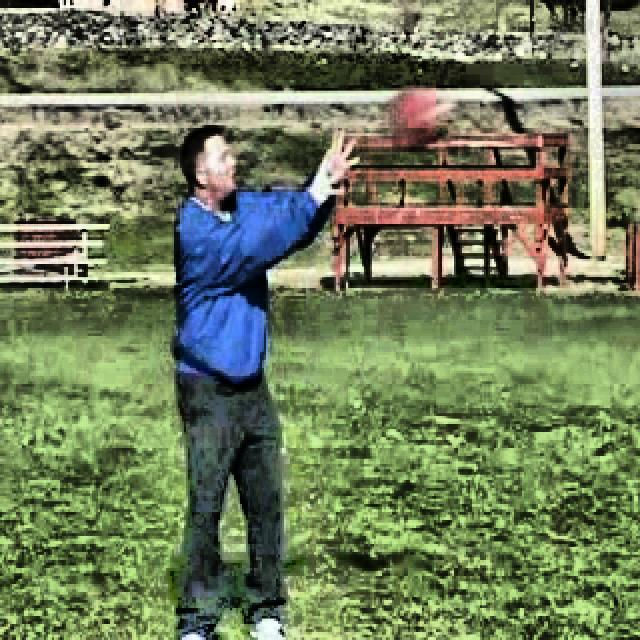I: (153, 109, 378, 640)
